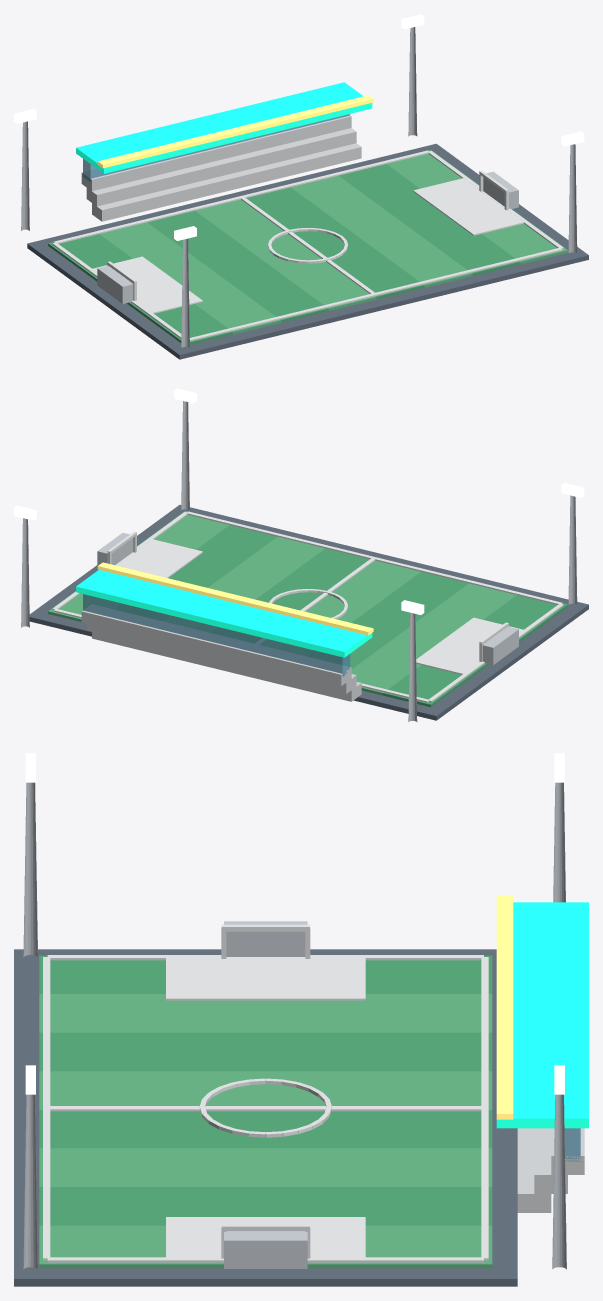
Rendered from academy_youth_pitch.master.glb.
3 renders of one model, top to bottom at view 1: azimuth 30°, elevation 25°; view 2: azimuth 150°, elevation 25°; view 3: azimuth 270°, elevation 25°, orthographic. The views are drawn at different scales.
Parts seen in each view (by area): view 1: academy_youth_pitch_master; view 2: academy_youth_pitch_master; view 3: academy_youth_pitch_master.
Boxes of the visible parts, left/top/right/bottom form: academy_youth_pitch_master: left=14, top=14, right=588, bottom=359; academy_youth_pitch_master: left=14, top=388, right=588, bottom=722; academy_youth_pitch_master: left=14, top=753, right=588, bottom=1286.
Bounding box in the file's own units: 3.72 × 1.08 × 2.74.
